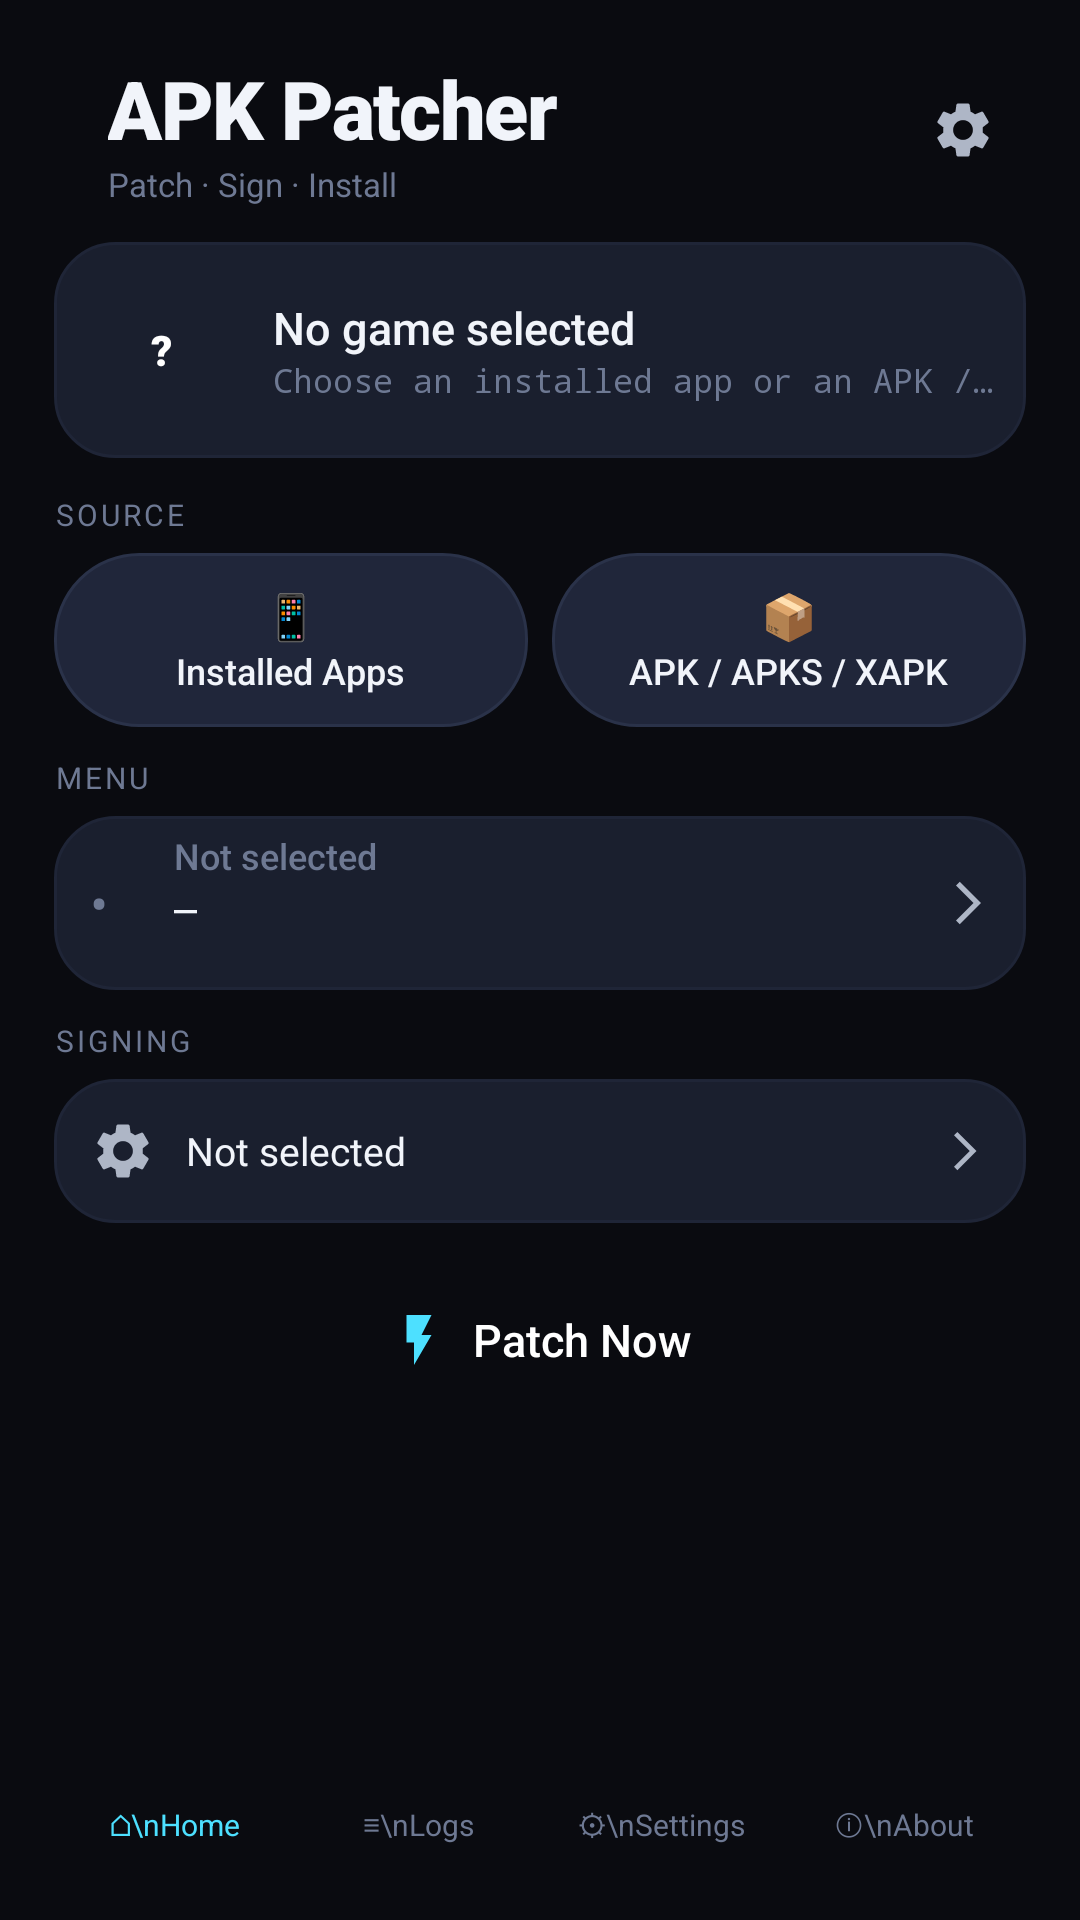

Icons on this 1080*1920 Android screen, each with the point to tap as (x=x, y=y):
arrow: (x=968, y=903), (x=965, y=1151)
bolt: (x=419, y=1340)
gear: (x=123, y=1151)
Settings: (x=963, y=130)
